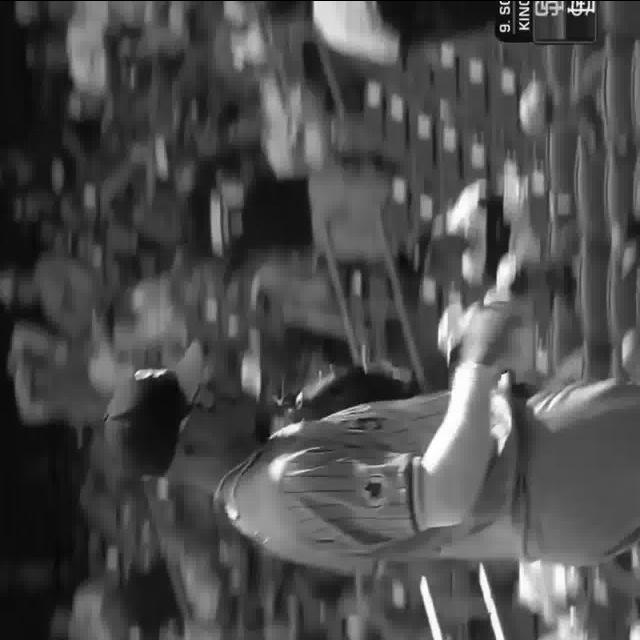baseball_glove: (282, 366, 406, 428)
